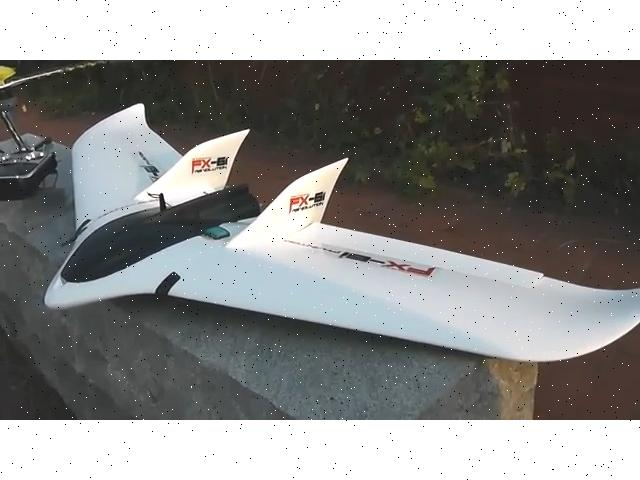Anti-Drone: (42, 94, 640, 379)
